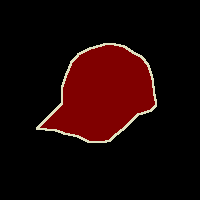hat: (37, 44, 156, 142)
